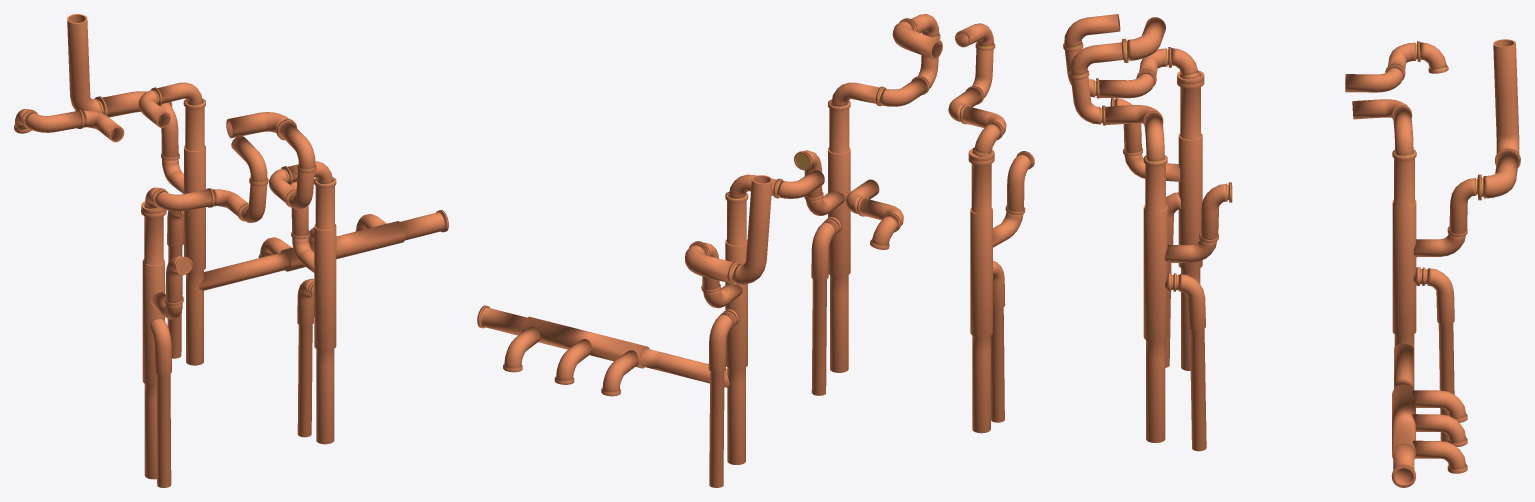
Rendered from rury 1.fbx.
The picture shows the model from 3 angles, left to right: view 1: azimuth 30°, elevation 25°; view 2: azimuth 150°, elevation 25°; view 3: azimuth 270°, elevation 25°; orthographic projection. The views are drawn at different scales.
Visible parts, largest first — view 1: Cylinder.003, Cylinder; view 2: Cylinder.003, Cylinder; view 3: Cylinder.003, Cylinder.
Boxes of the visible parts, bbox=[...] form: Cylinder.003: bbox=[67, 14, 336, 487]; Cylinder: bbox=[14, 82, 448, 365]; Cylinder.003: bbox=[685, 14, 1034, 433]; Cylinder: bbox=[477, 170, 903, 487]; Cylinder.003: bbox=[1063, 14, 1520, 451]; Cylinder: bbox=[1345, 41, 1478, 487].
Size of the model in its own units: 29590 by 24263 by 26223.
